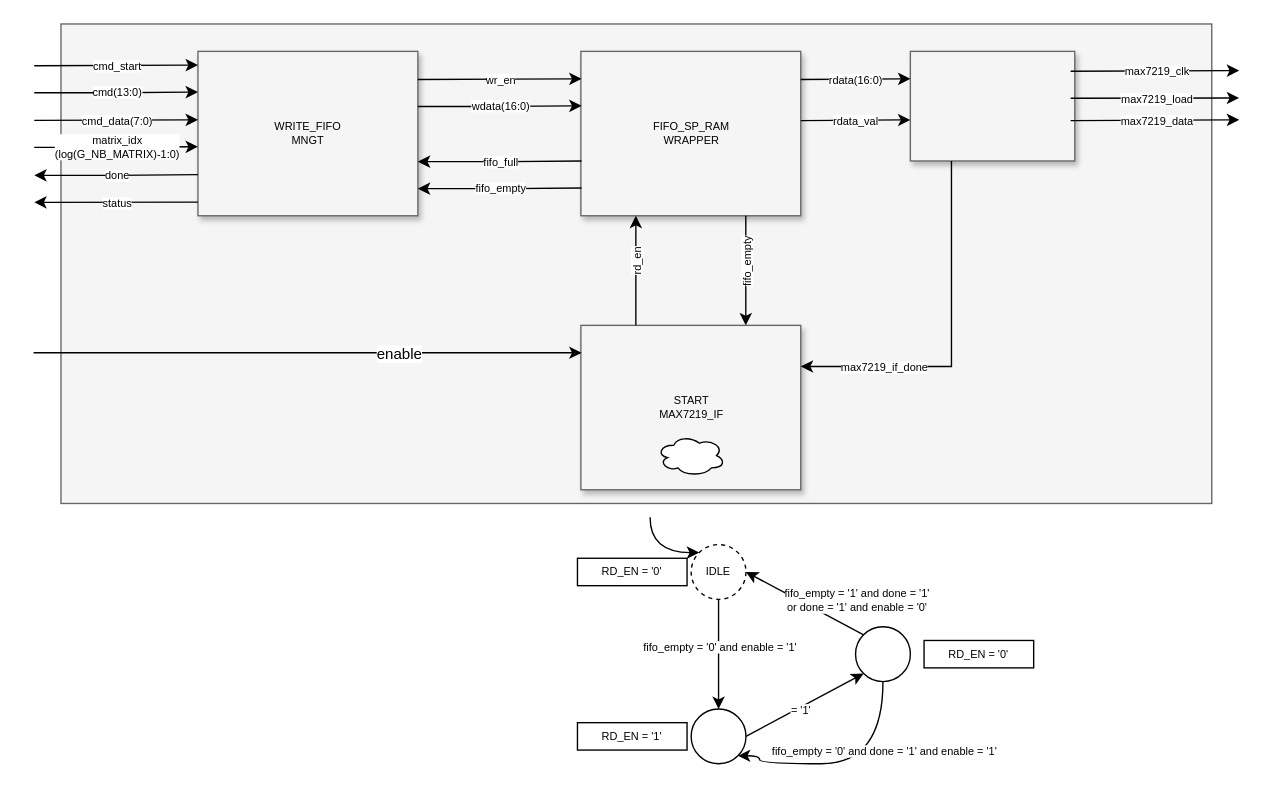
This 1274x788 diagram has some shape labels left out. Here are the shapes that lost their labels. From the top down, the centre of each, then its label:
At [993,108]: "MAX7219_IF".
At [690,455]: "FSM".
At [882,653]: "WAIT DONE".
At [718,736]: "RD FIFO".
